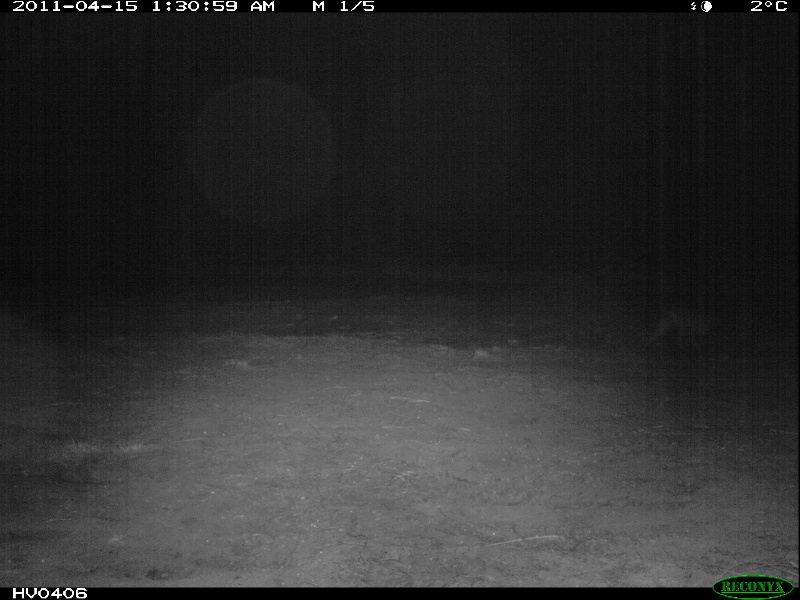fox: (649, 298, 711, 352)
